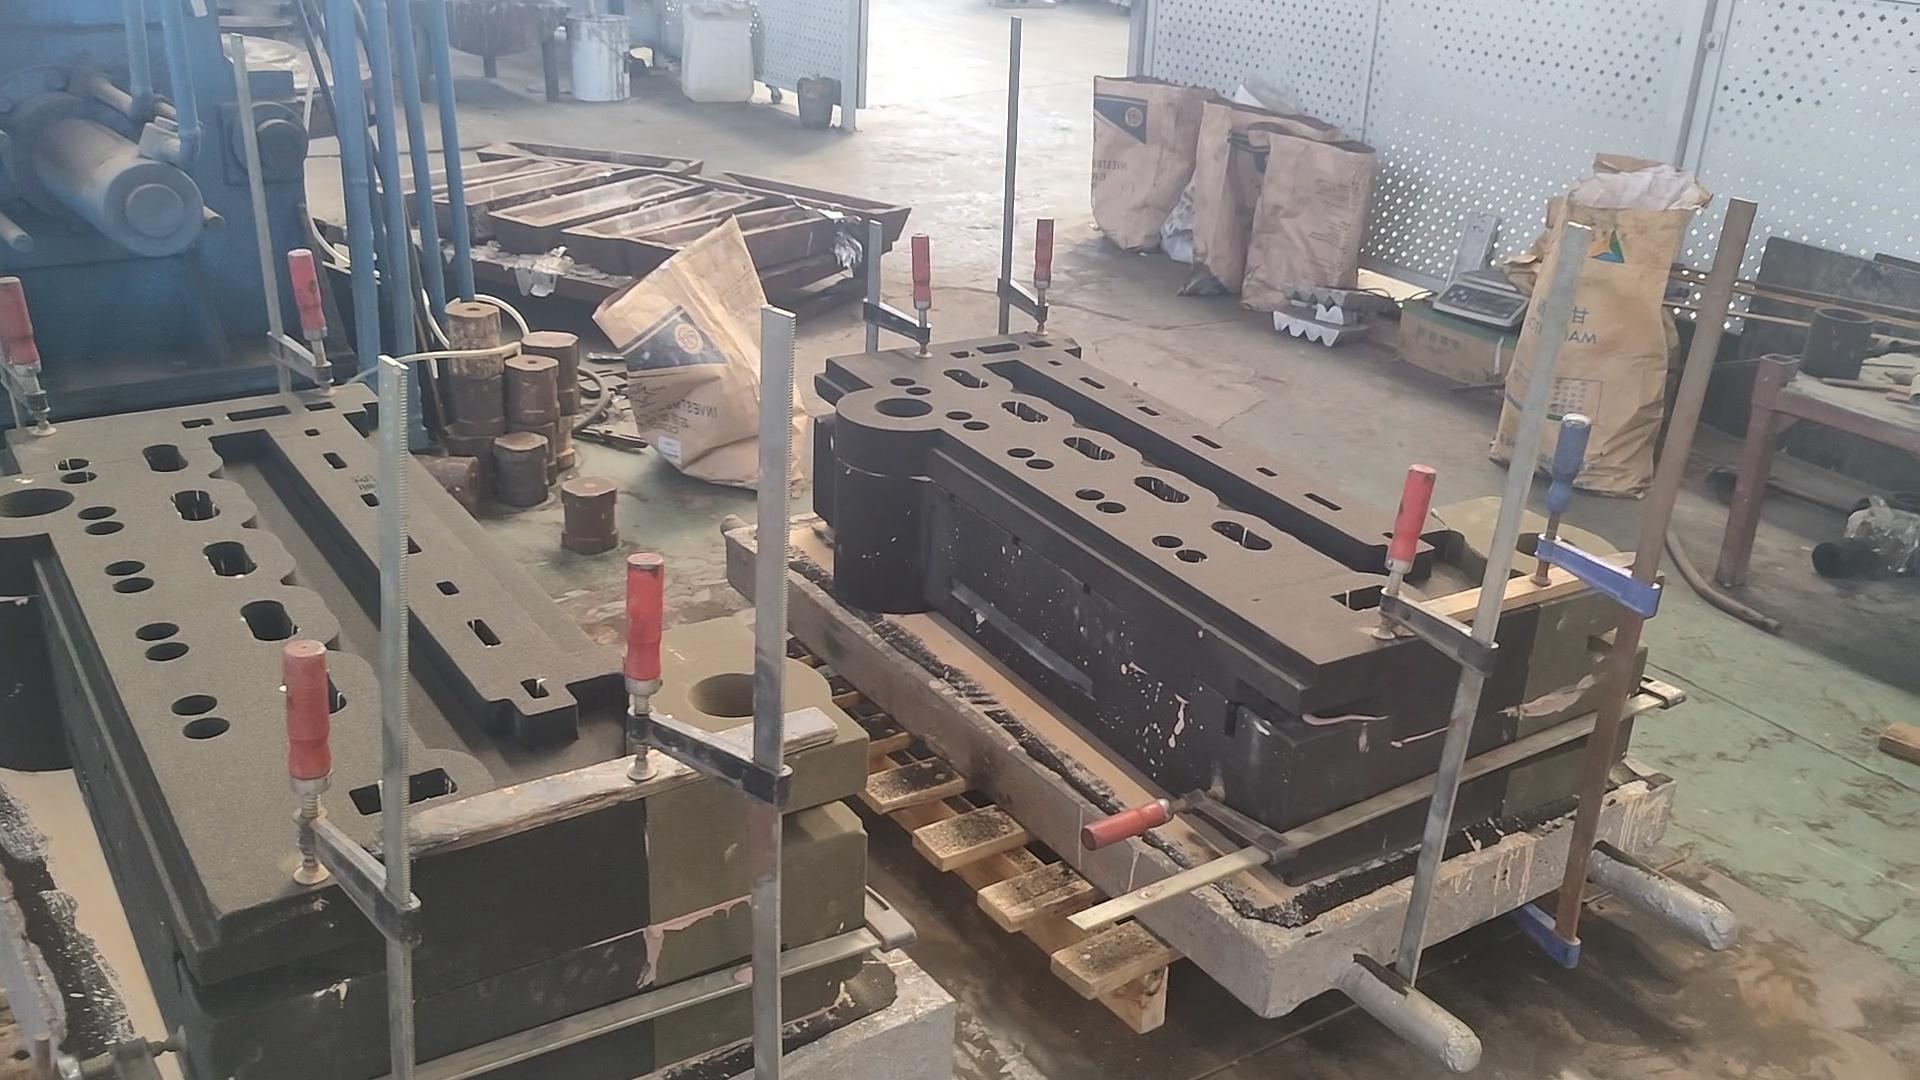pouring hole: (686, 673, 781, 717), (1, 487, 75, 518), (1509, 531, 1580, 559), (873, 398, 934, 417), (1817, 306, 1875, 323)
